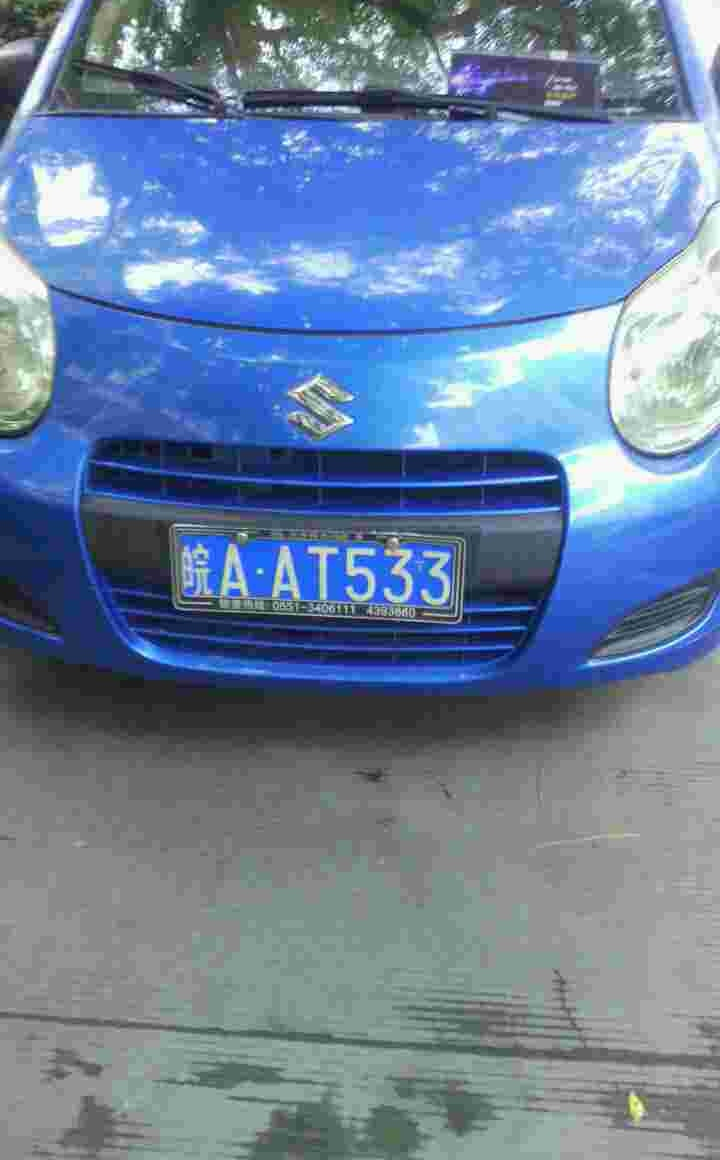license_plate: (186, 527, 444, 607)
